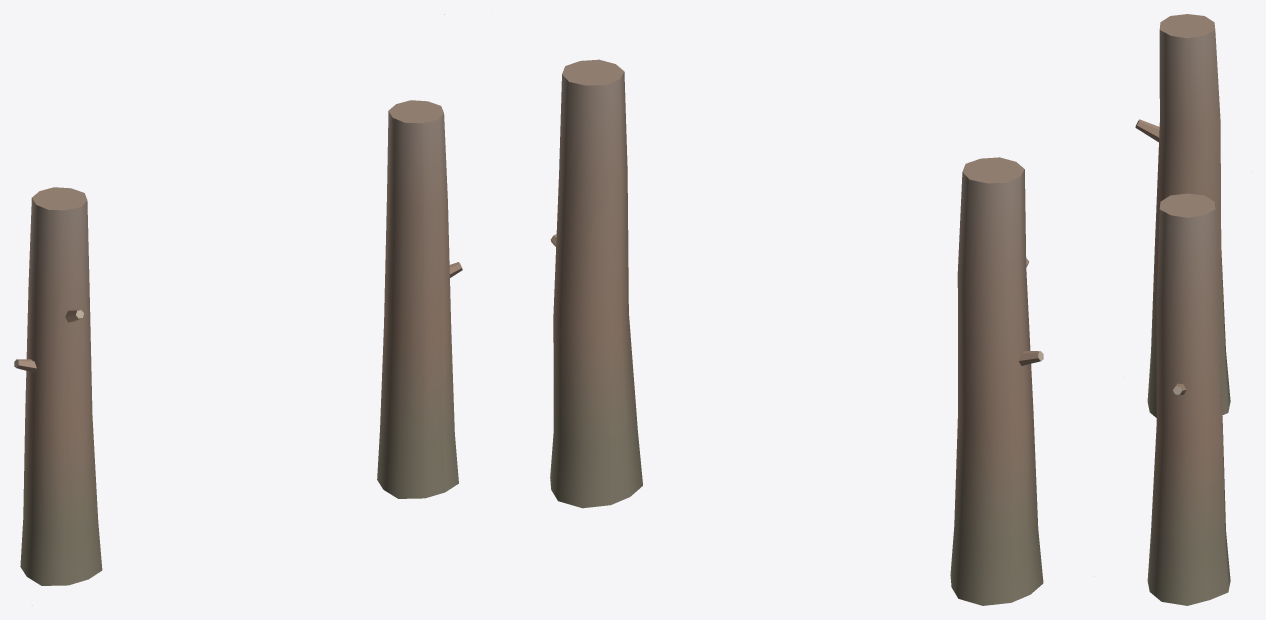
Rendered from CreekGateArch_bark.glb.
3 views of the same model, side by side, from view 1: azimuth 30°, elevation 25°; view 2: azimuth 150°, elevation 25°; view 3: azimuth 270°, elevation 25° (orthographic). The views are drawn at different scales.
Visible parts, largest first — view 1: CreekGateArch_bark; view 2: CreekGateArch_bark; view 3: CreekGateArch_bark.
Boxes of the visible parts, bbox=[...] form: CreekGateArch_bark: bbox=[14, 14, 462, 605]; CreekGateArch_bark: bbox=[550, 59, 1094, 605]; CreekGateArch_bark: bbox=[1123, 14, 1251, 605].
Size of the model in its own units: 14.13 by 12.22 by 3.22.
